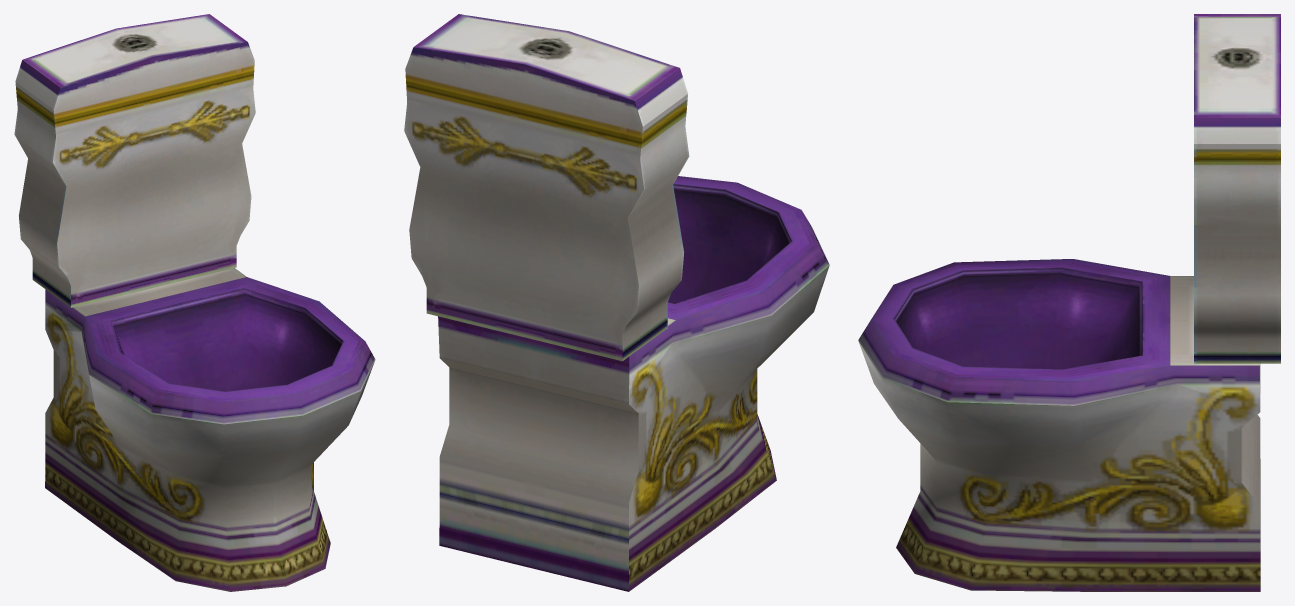
File: furni_0201119_01.FBX
The picture shows the model from 3 angles, left to right: view 1: azimuth 30°, elevation 25°; view 2: azimuth 150°, elevation 25°; view 3: azimuth 270°, elevation 25°; orthographic projection. The views are drawn at different scales.
Visible parts, largest first — view 1: furni_0201119_01; view 2: furni_0201119_01; view 3: furni_0201119_01.
Boxes of the visible parts, x1,y1,x2,y2 form: furni_0201119_01: [14, 14, 375, 591]; furni_0201119_01: [404, 14, 829, 591]; furni_0201119_01: [858, 14, 1280, 591].
Size of the model in its own units: 57.89 by 101 by 78.84.
Materials: 1 (1 with a texture image).
